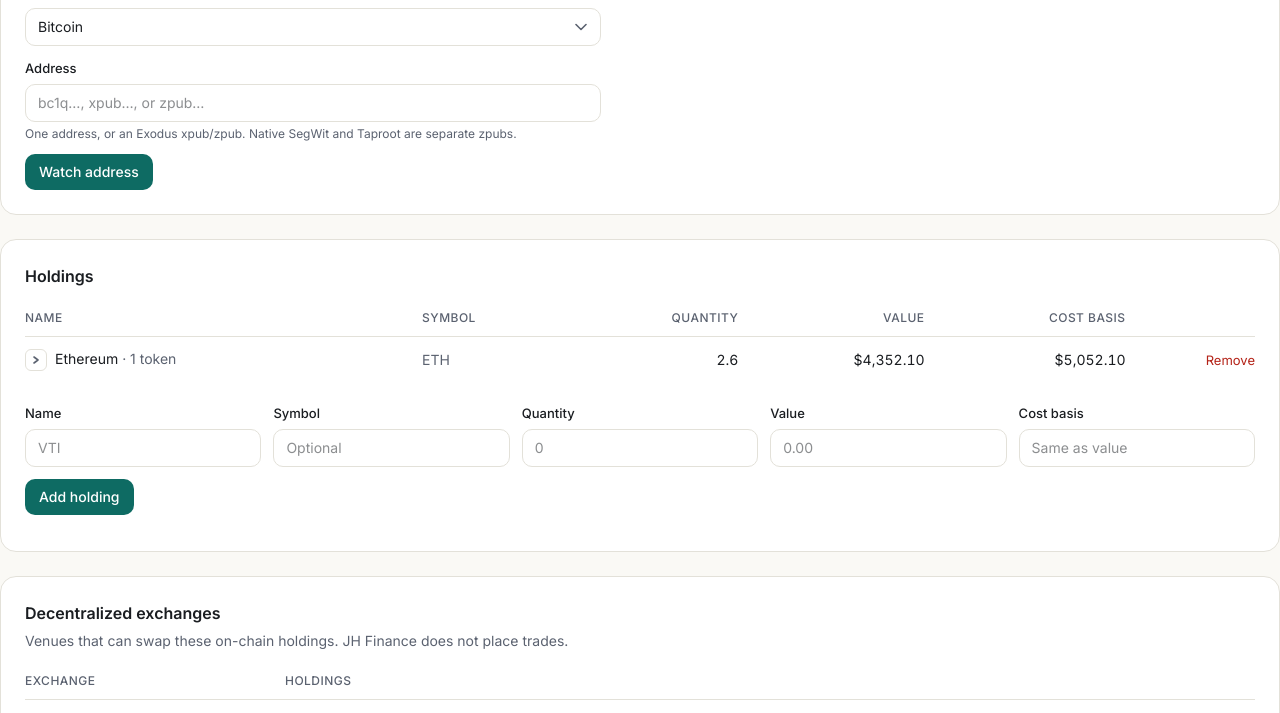
Test: InvestmentDetailPage crypto addresses › expands chain tokens under the native holding
(page scrolled)
Expected: the text "· 1 token" is shown, [118,350,176,367]
Expected: the text "AZ token" is not shown
Click the button named "Expand tokens" at (36, 360), box [25,349,47,371]
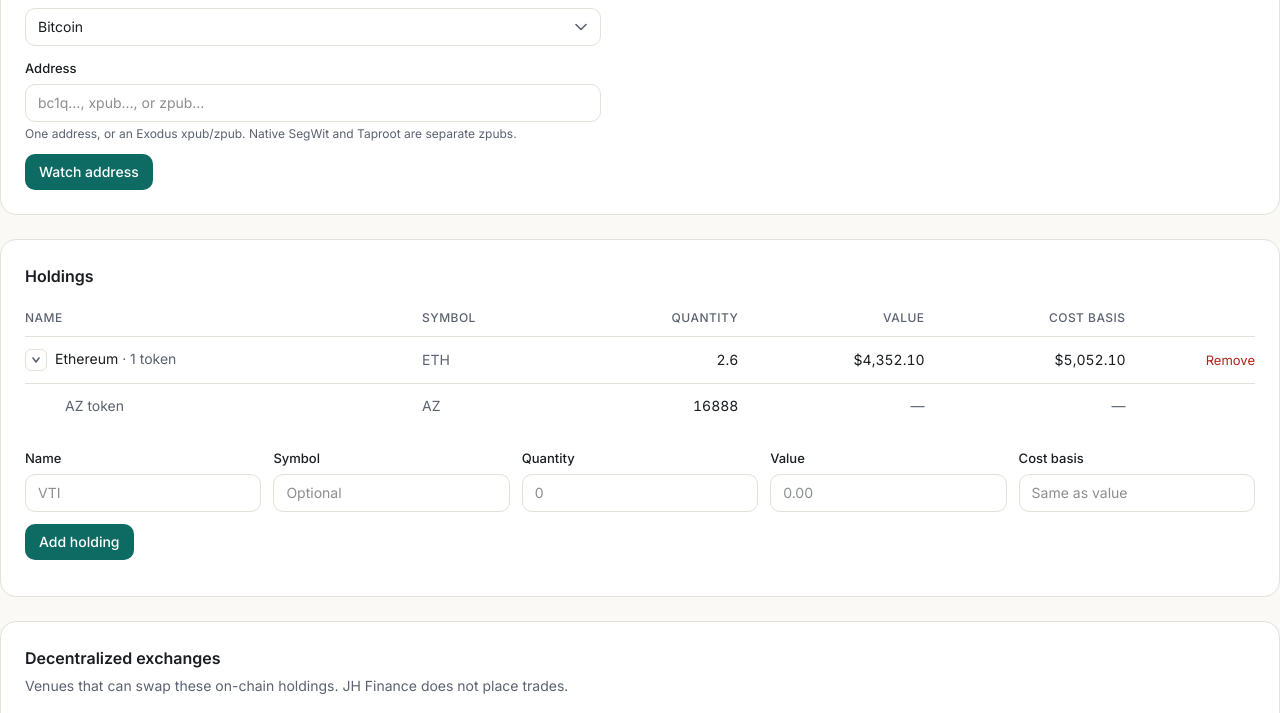
Expected: the text "AZ token" is shown, [25,384,422,428]
Expected: the text "16888" is shown, [563,384,738,428]
